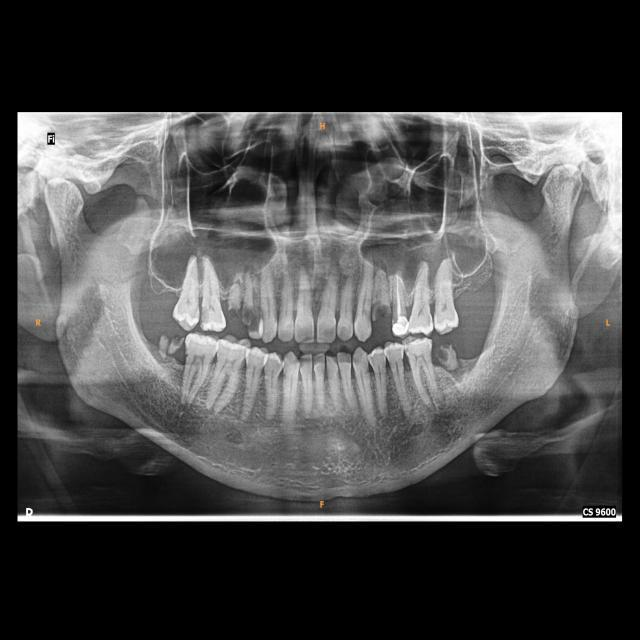dentin-curugu: (369, 298, 393, 323), (245, 304, 263, 336)
kanal-tedavisi: (396, 274, 402, 315)
kaplama: (393, 317, 408, 336)
kirik: (438, 341, 459, 373), (162, 331, 184, 350), (226, 299, 242, 317)
